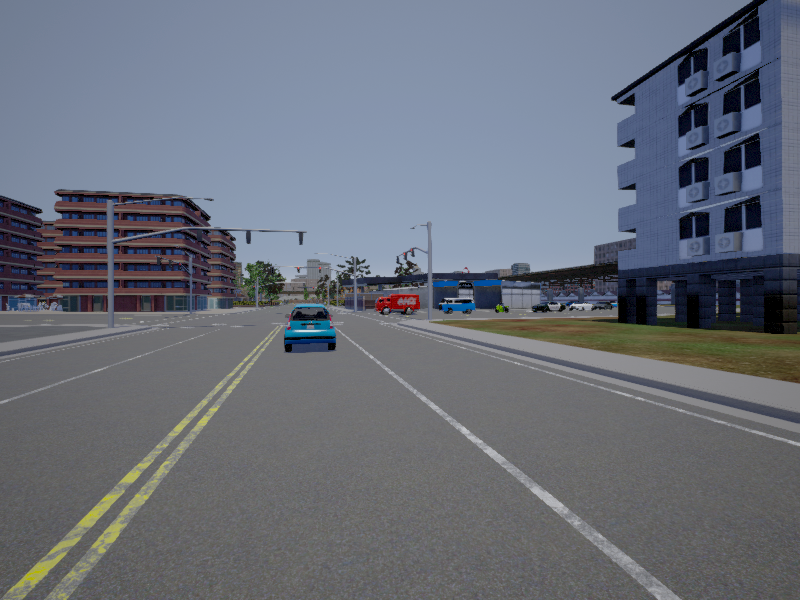Benign: (284, 304, 338, 353), (374, 293, 421, 313), (440, 298, 476, 315), (532, 301, 565, 314)
